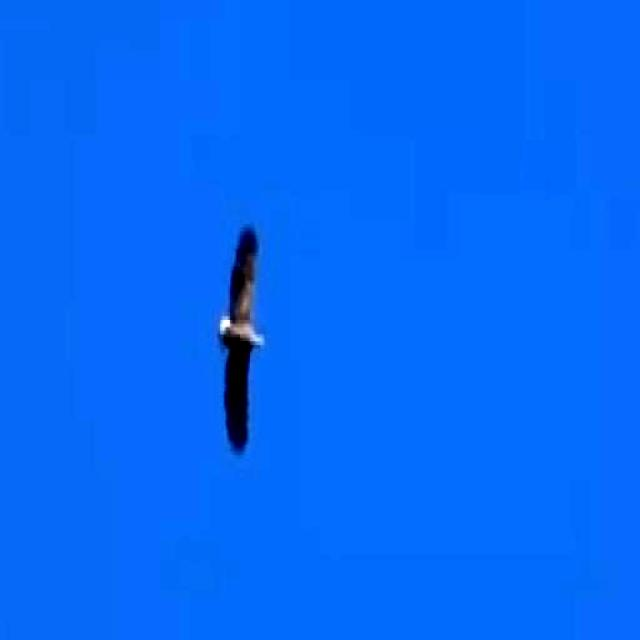airplane: (204, 211, 285, 466)
